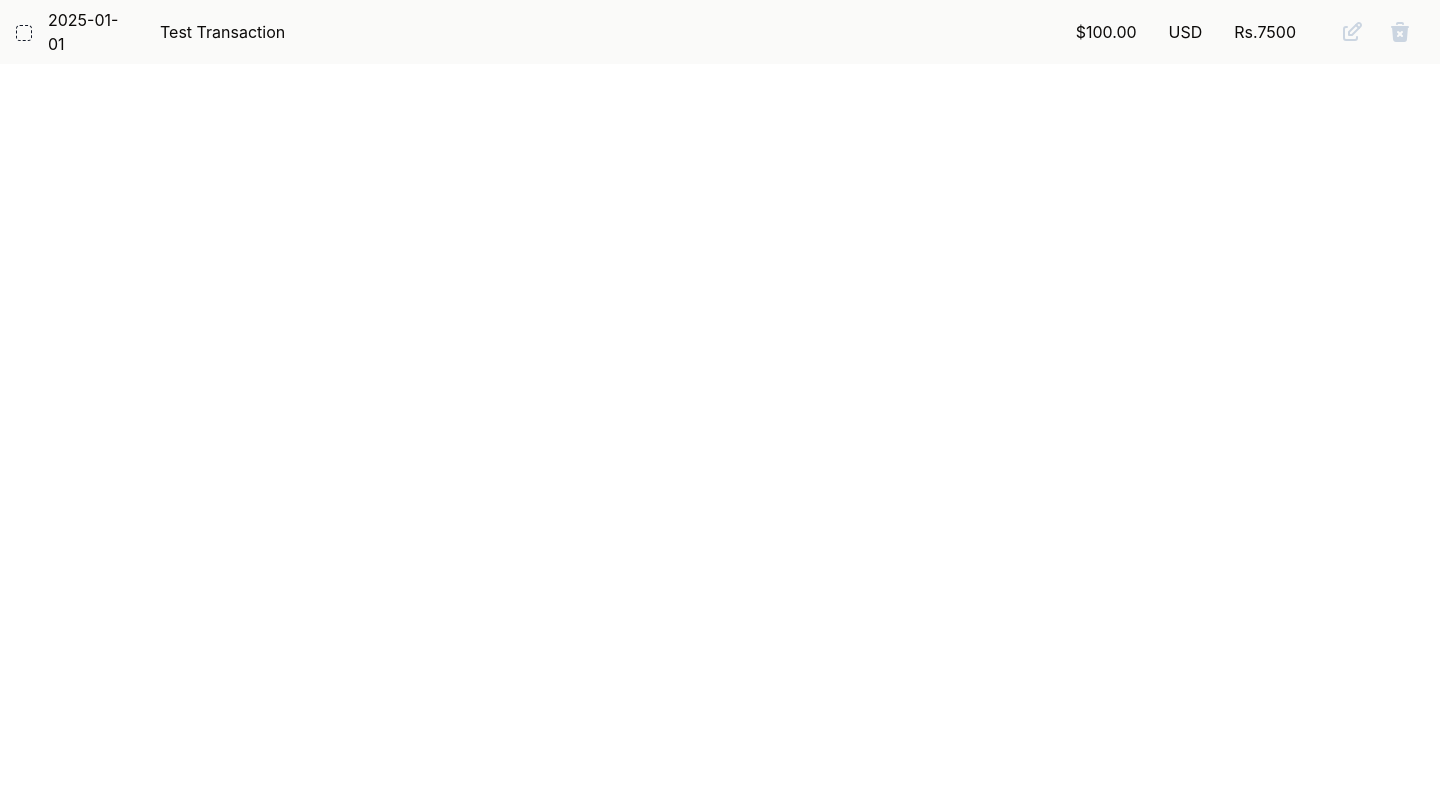
Test case: ViewTransactionRow › opens the edit dialog on edit button click
Click the button with test id "edit-button": [1352, 32] box [1328,12,1376,52]
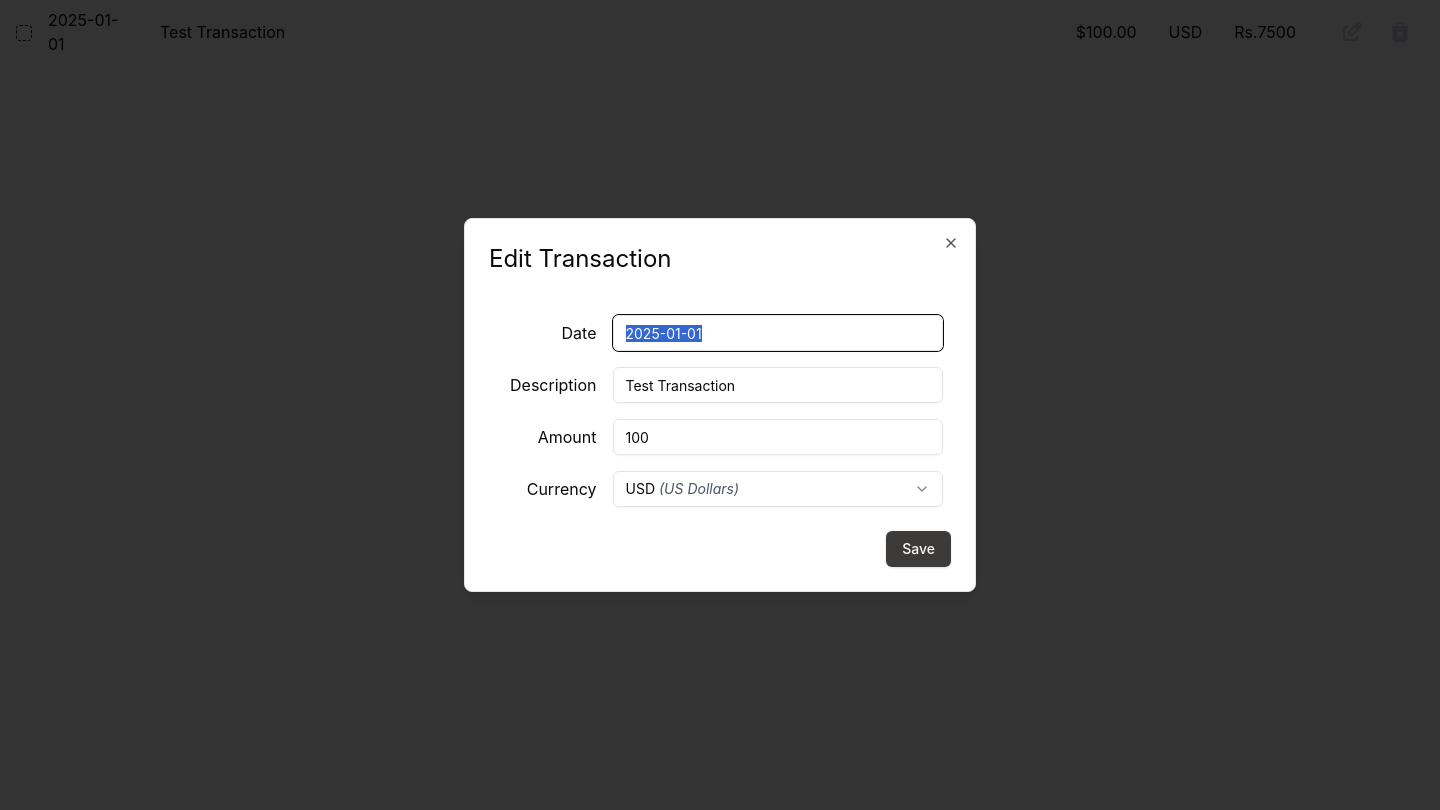
Expected: the text "Edit Transaction" is shown, [489,244,672,273]
